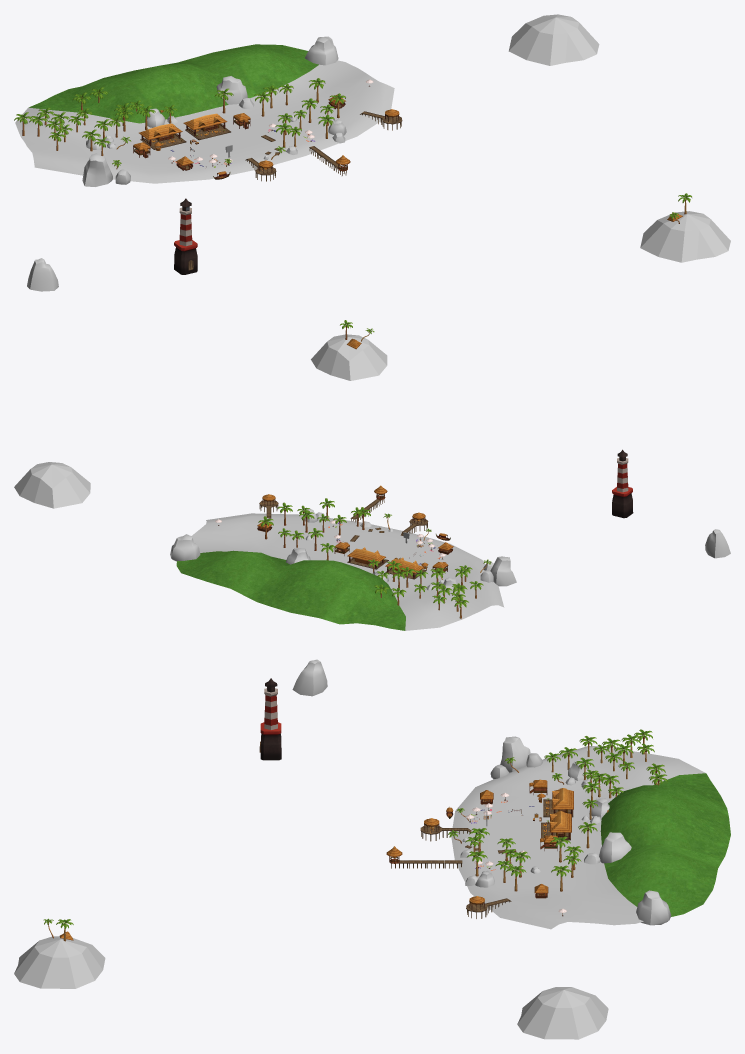
The model's file is island.FBX.
3 views of the same model, one above another, from view 1: azimuth 30°, elevation 25°; view 2: azimuth 150°, elevation 25°; view 3: azimuth 270°, elevation 25° (orthographic). The views are drawn at different scales.
Parts seen in each view (by area): view 1: Box002, Object001, Island_01, Island_002, Lighthouse_01, Restaurant_01, Box005, Restaurant_002, Box012, Box024, Box015; view 2: Box002, Object001, Island_01, Island_002, Lighthouse_01, Box024, Box012, Box005, Restaurant_01; view 3: Box002, Object001, Island_01, Island_002, Lighthouse_01, Box024, Box005, Box012, Box015, Restaurant_002, Restaurant_01.
Part boxes in pixels (box(x1,y1,x2,y2)): Box002: box(15, 60, 394, 183); Object001: box(29, 44, 318, 123); Island_01: box(508, 14, 599, 65); Island_002: box(640, 211, 730, 262); Lighthouse_01: box(174, 198, 197, 274); Restaurant_01: box(183, 113, 230, 140); Box005: box(27, 258, 58, 291); Restaurant_002: box(139, 123, 186, 149); Box012: box(82, 153, 112, 186); Box024: box(305, 36, 338, 65); Box015: box(216, 76, 247, 104); Box002: box(191, 513, 504, 630); Object001: box(176, 550, 405, 630); Island_01: box(14, 462, 90, 508); Island_002: box(311, 334, 387, 380); Lighthouse_01: box(612, 449, 633, 518); Box024: box(170, 534, 200, 561); Box012: box(490, 556, 516, 586); Box005: box(705, 529, 730, 558); Restaurant_01: box(347, 547, 388, 569); Box002: box(451, 746, 705, 929); Object001: box(600, 773, 730, 916); Island_01: box(517, 987, 608, 1039); Island_002: box(14, 936, 105, 988); Lighthouse_01: box(259, 678, 281, 760); Box024: box(636, 890, 671, 925); Box005: box(292, 659, 327, 696); Box012: box(500, 736, 530, 772); Box015: box(599, 832, 631, 863); Restaurant_002: box(543, 788, 573, 817); Restaurant_01: box(541, 811, 571, 840).
Bounding box in the file's own units: 3975 × 405 × 3354.
